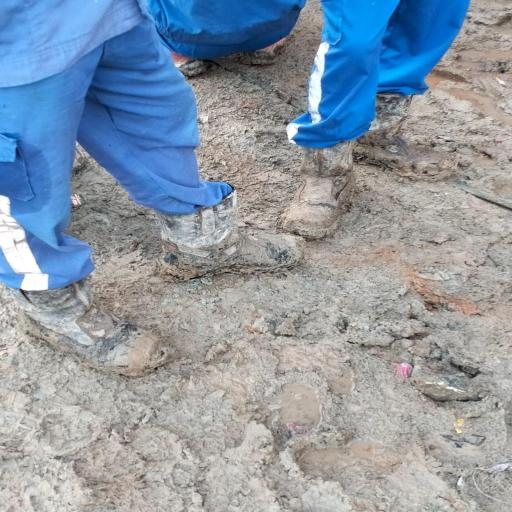safety_shoe: (148, 190, 305, 273), (20, 282, 164, 371), (272, 146, 363, 232), (361, 94, 453, 178)
